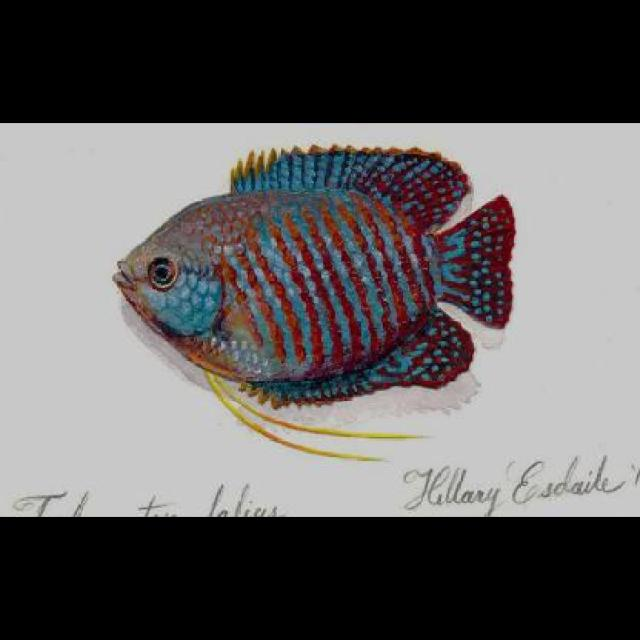Gourami: (122, 142, 509, 390)
